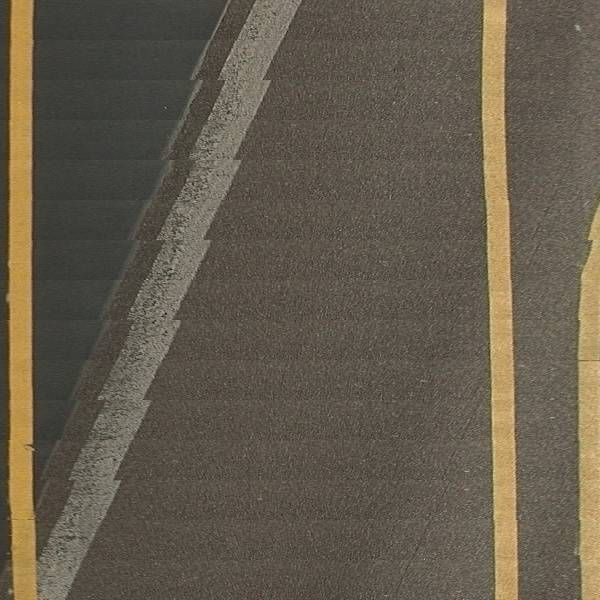road_damage: (48, 2, 237, 475)
